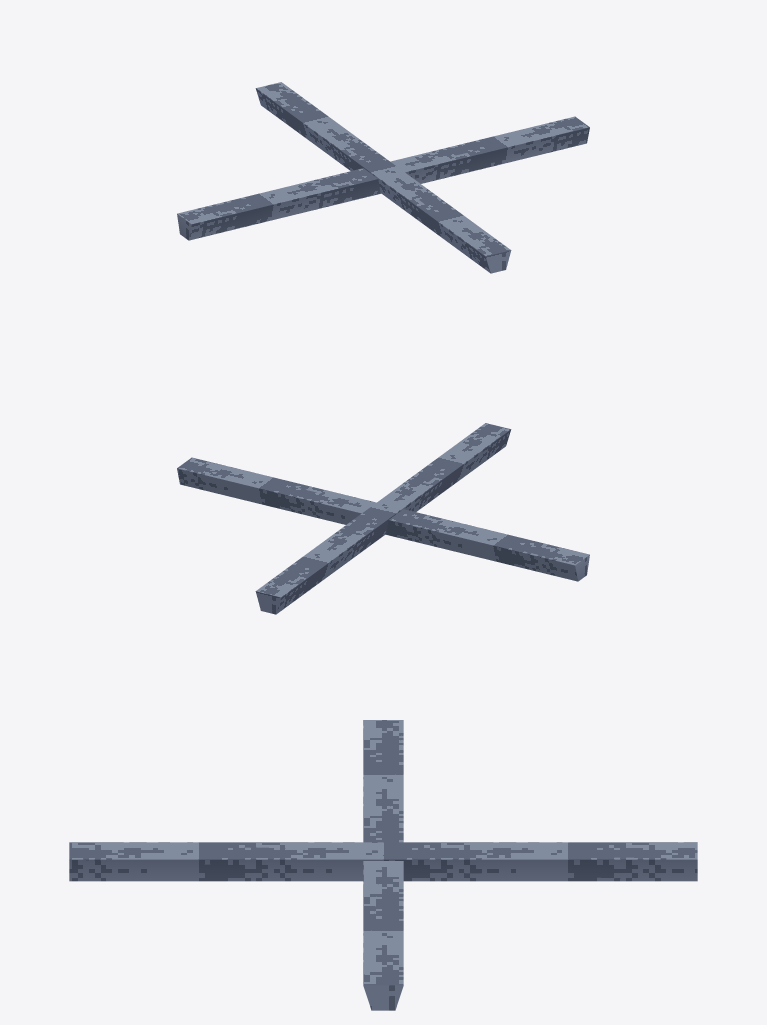
Rendered from stn.ceiling__c2x2.glb.
3 views of the same model, one above another, from view 1: azimuth 30°, elevation 25°; view 2: azimuth 150°, elevation 25°; view 3: azimuth 270°, elevation 25° (orthographic). The views are drawn at different scales.
Parts seen in each view (by area): view 1: kit_beams; view 2: kit_beams; view 3: kit_beams.
Part boxes in pixels (x1,y1,x2,y2): kit_beams: (177, 82, 589, 273); kit_beams: (177, 423, 589, 614); kit_beams: (69, 720, 697, 1010).
Size of the model in its own units: 8 by 0.32 by 8.
Materials: 3 (3 with a texture image).
